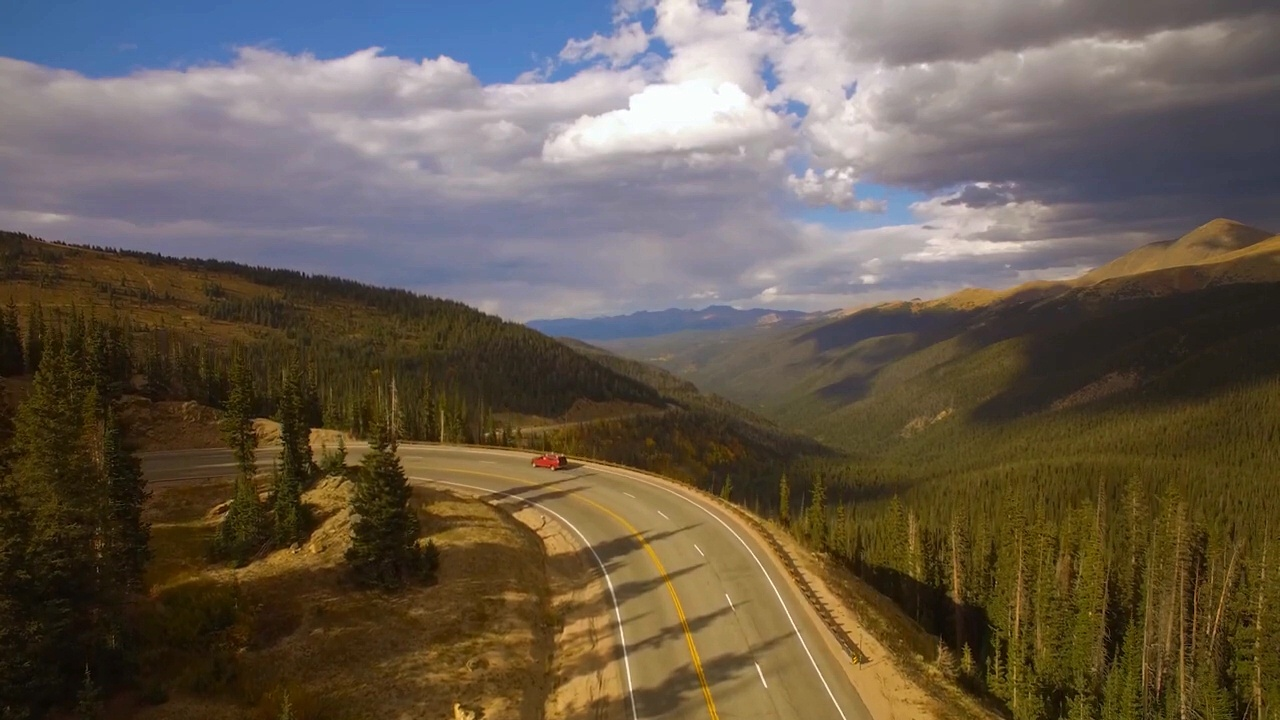araba: (529, 451, 569, 469)
